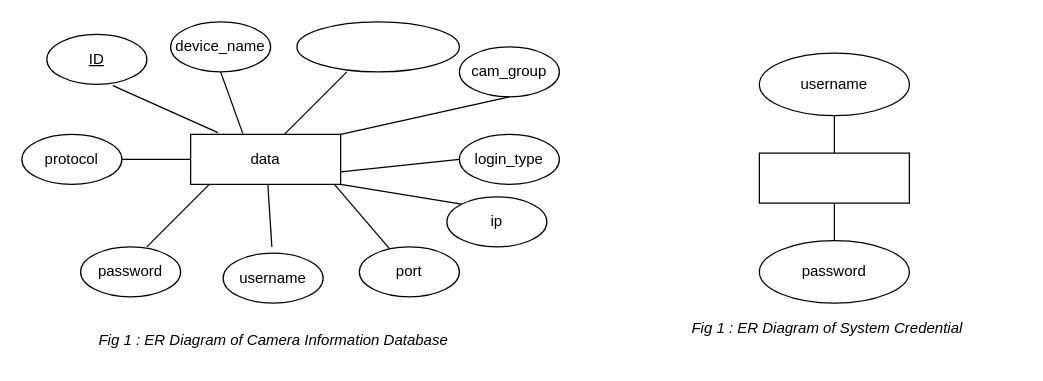
Some shapes in this 1043 by 381 pixel diagram are drawn without their labels. The shapes that lost their labels are listed below. From the top down, each one's centre as x and y in pixels, then its label:
At point 377,46: "additional_information".
At point 833,177: "userdata".
